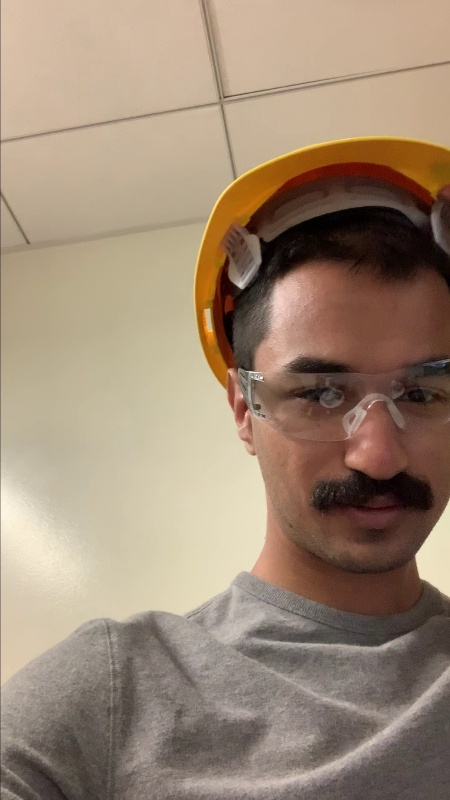glasses: (255, 359, 450, 430)
helmet: (214, 127, 450, 207)
